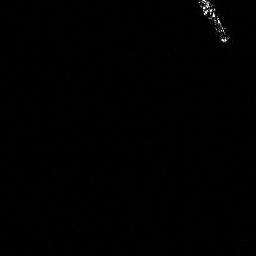ship: (194, 1, 234, 48)
